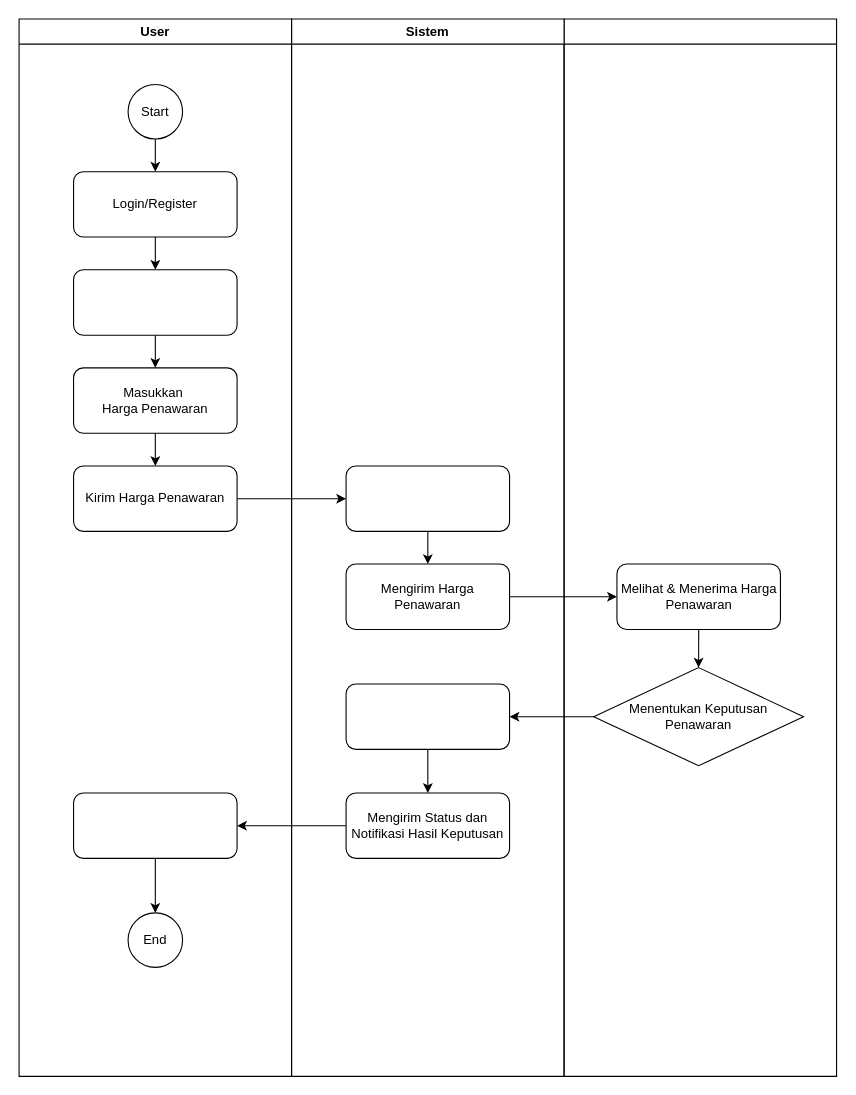
This 856x1095 diagram has some shape labels left out. The box of each missing label's shape, as (x1, y1, x2, y2) in pixels:
Admin: (563, 18, 837, 1076)
Memilih Barang Lelang: (72, 269, 237, 335)
Menerima Request Penawaran: (345, 465, 510, 531)
Menerima Status & Hasil Keputusan: (72, 792, 237, 858)
Menyimpan Hasil Keputusan: (345, 683, 510, 749)
